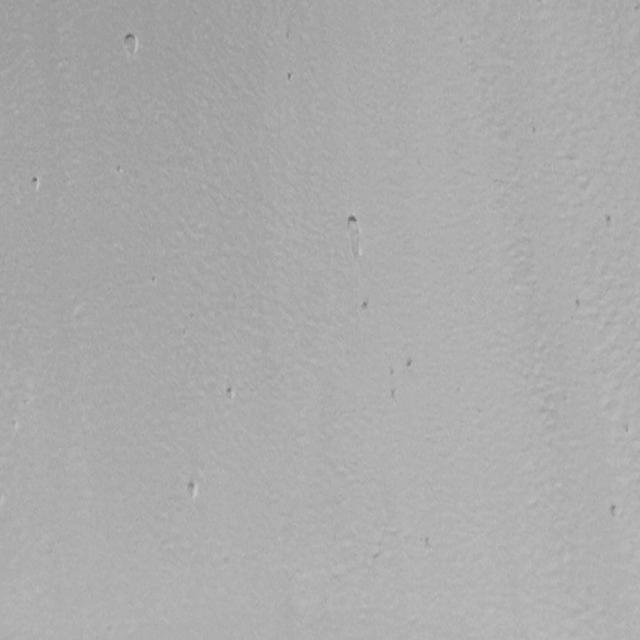pin holes: (341, 211, 370, 260), (119, 31, 142, 60), (182, 478, 201, 504), (220, 384, 240, 407), (606, 501, 624, 524), (28, 176, 42, 194), (604, 215, 617, 232), (360, 298, 372, 316), (404, 359, 417, 374), (390, 387, 401, 404), (286, 69, 294, 86), (388, 365, 396, 379), (624, 423, 630, 437)
